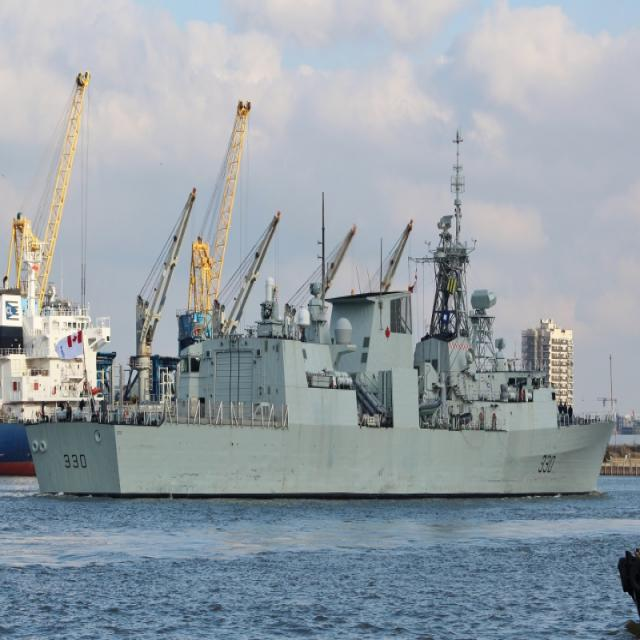Fragata: (24, 210, 619, 503)
